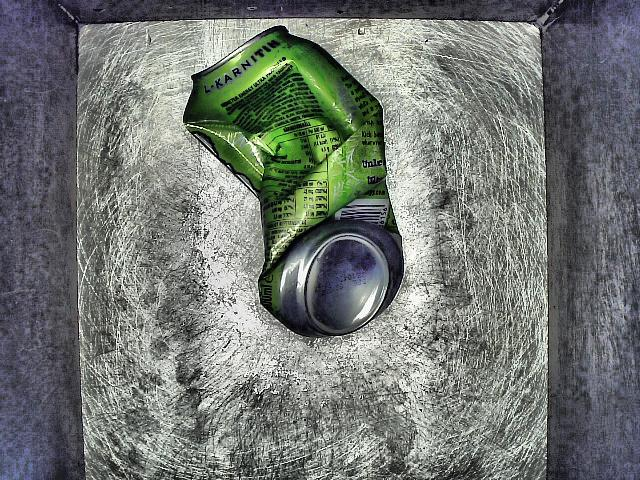Bottles: (167, 27, 440, 359)
